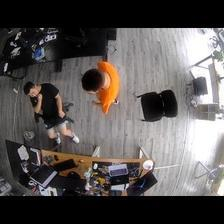normal: (21, 80, 79, 148), (80, 60, 125, 107)
